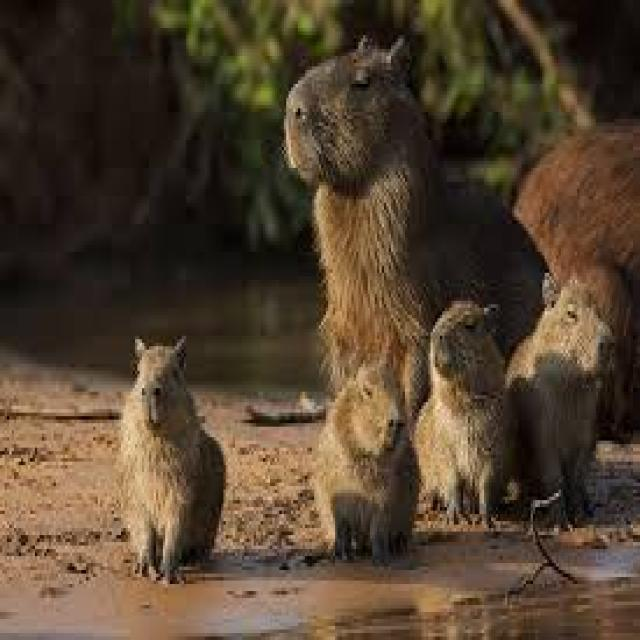capy: (283, 34, 548, 382), (120, 336, 228, 586), (509, 274, 612, 513), (312, 356, 422, 557), (429, 297, 509, 529)
